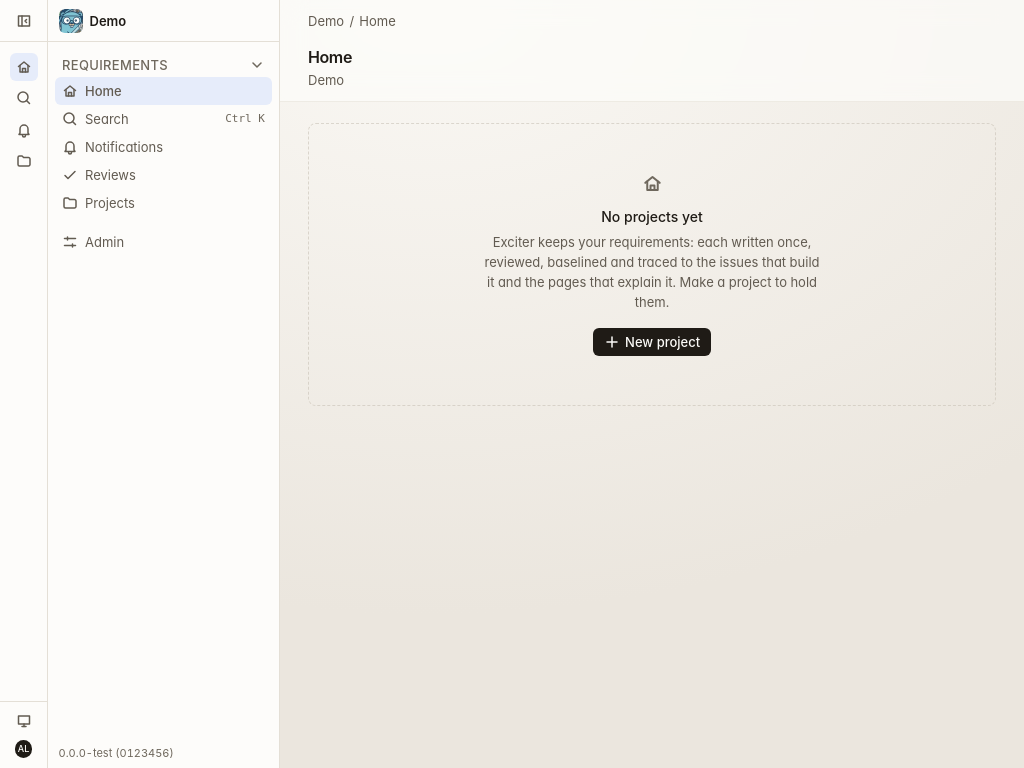
Scenario: the palette when the quick search goes wrong › does not offer an answer to an earlier word once the word has changed
The image size is (1024, 768).
Type keys "{Control>}k{/Control}"
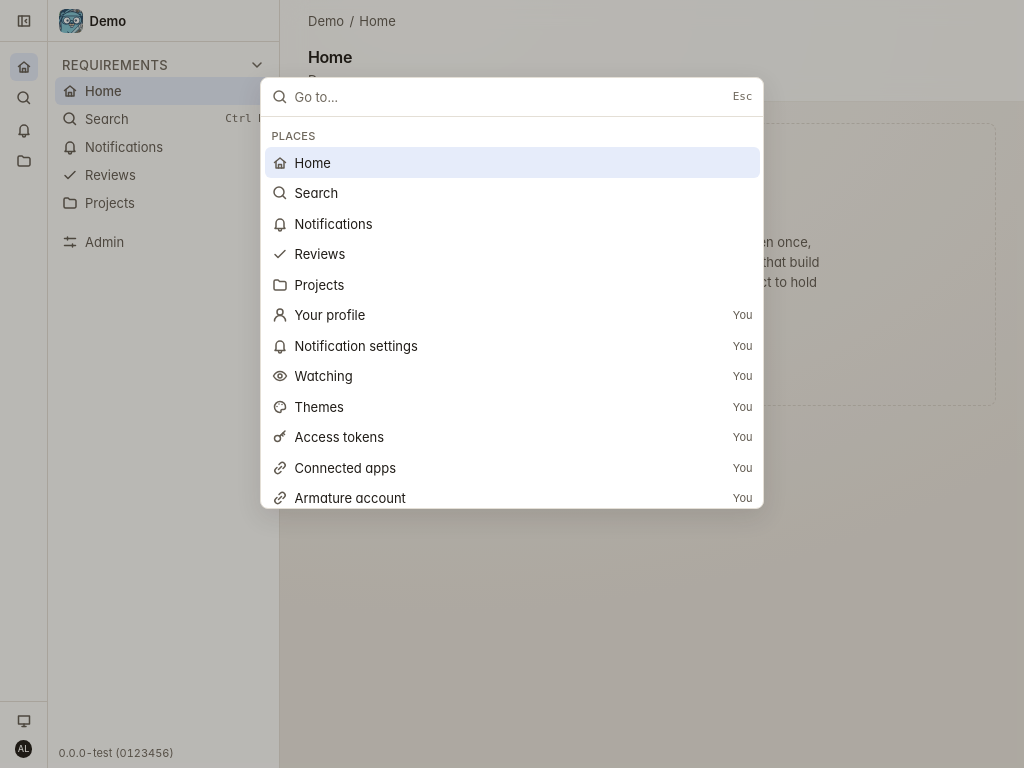
Type "bra" into the dropdown.
click(510, 97); type("bra")  # box [294,78,726,116]
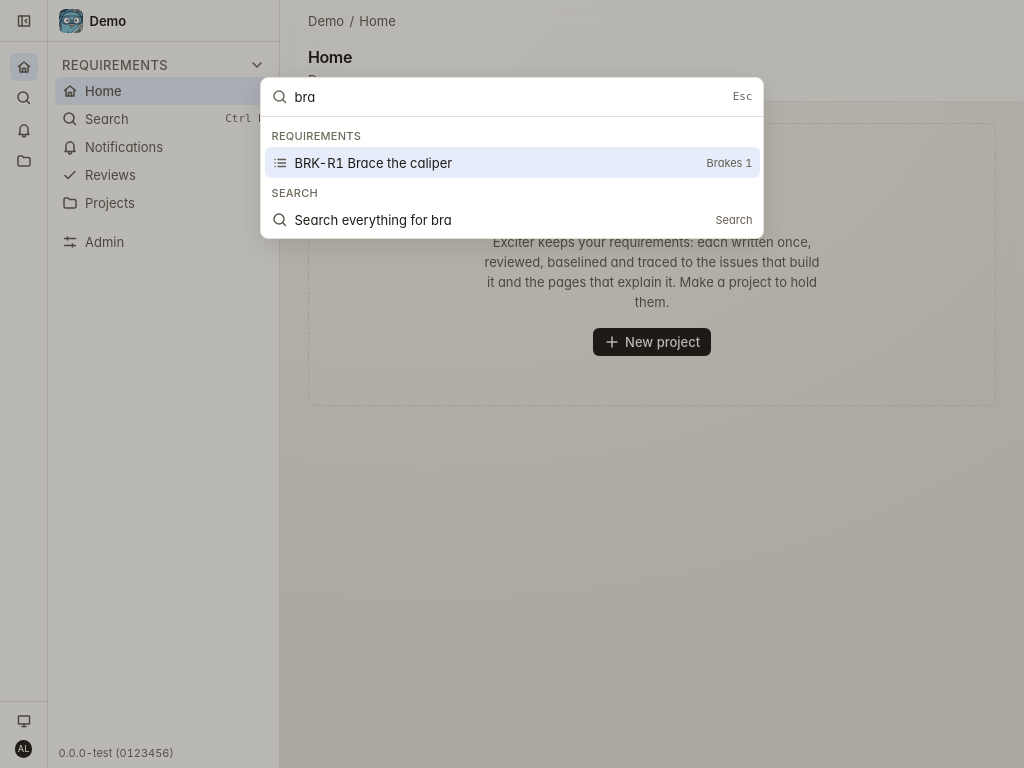
expect the option "BRK-R1 Brace the caliper Brakes 1" is shown: met, box [264,147,760,178]
Type "ke" into the dropdown.
click(510, 97); type("ke")  # box [294,78,726,116]
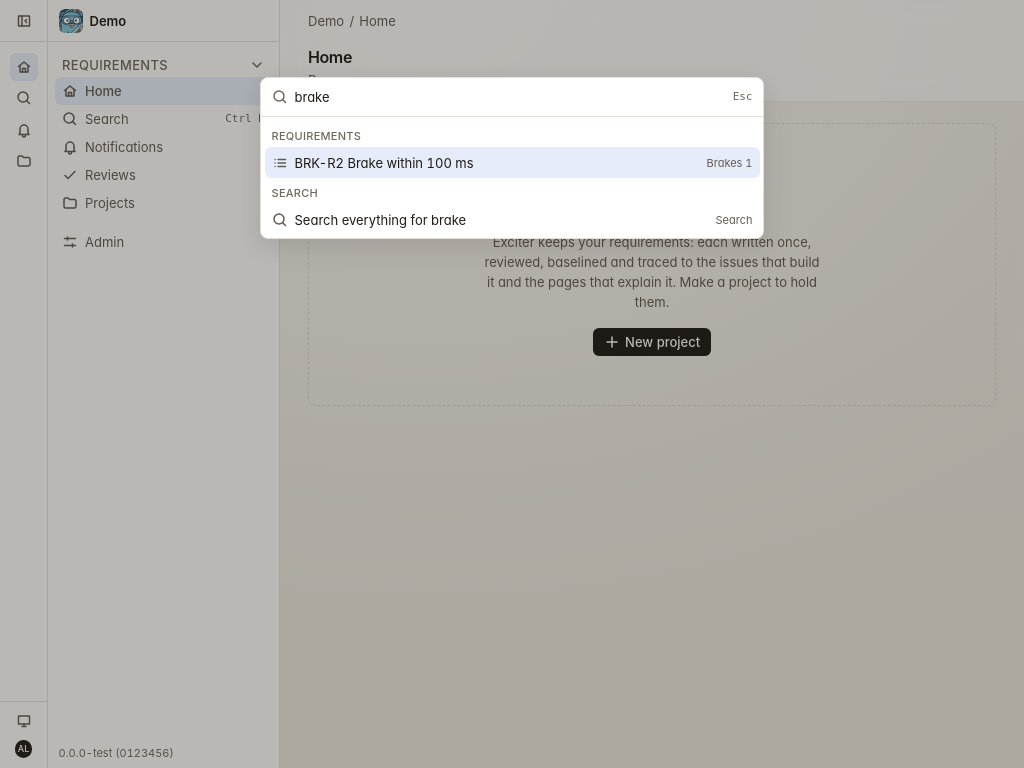
expect the option "BRK-R2 Brake within 100 ms Brakes 1" is shown: met, box [264,147,760,178]
